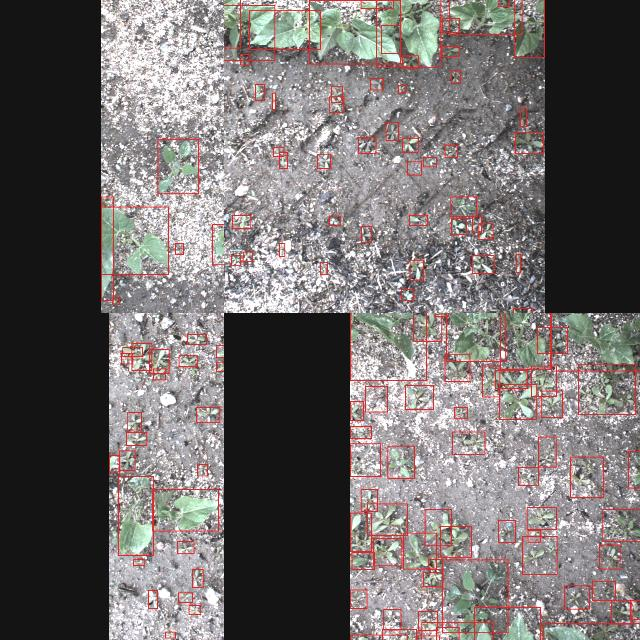crop: (308, 0, 400, 63), (550, 313, 640, 370), (349, 313, 425, 379), (442, 560, 508, 632), (100, 206, 168, 274), (375, 0, 440, 66), (445, 313, 505, 361), (500, 313, 550, 369), (152, 488, 218, 530), (248, 10, 320, 48), (224, 4, 273, 59), (118, 476, 152, 554), (448, 0, 521, 33), (474, 606, 540, 640), (514, 0, 544, 56), (421, 621, 492, 640), (100, 196, 112, 300), (224, 0, 239, 47), (108, 455, 118, 473)
weed: (577, 363, 635, 413), (156, 138, 198, 194), (570, 457, 604, 498), (498, 384, 536, 418), (522, 536, 556, 574), (366, 503, 406, 535), (402, 532, 436, 568), (602, 509, 640, 541), (349, 442, 379, 476), (424, 509, 450, 545), (440, 526, 470, 556), (386, 445, 414, 477), (372, 537, 402, 565), (413, 313, 441, 341), (530, 365, 556, 395), (537, 327, 567, 353), (350, 512, 370, 550), (444, 353, 470, 381), (404, 385, 434, 409), (452, 431, 484, 453), (526, 507, 556, 529), (495, 370, 527, 388), (540, 390, 562, 416), (515, 132, 543, 152), (380, 25, 400, 53), (131, 342, 151, 370), (538, 436, 556, 466), (481, 366, 499, 396), (564, 586, 588, 608), (364, 386, 386, 410), (211, 224, 224, 264), (450, 196, 476, 216), (627, 450, 640, 487), (148, 349, 168, 373), (611, 600, 631, 624), (599, 544, 619, 568), (592, 580, 614, 600), (472, 255, 494, 273), (418, 610, 437, 630), (359, 489, 376, 511), (382, 629, 416, 640), (351, 552, 374, 568), (518, 467, 538, 485), (382, 609, 400, 629), (196, 406, 218, 422), (498, 520, 514, 542), (435, 626, 458, 640), (118, 450, 134, 470), (350, 588, 366, 608), (409, 259, 423, 279), (422, 572, 442, 586), (450, 218, 466, 234), (357, 138, 375, 152), (441, 18, 459, 32), (126, 411, 140, 429), (126, 432, 146, 444), (350, 400, 362, 420), (350, 426, 370, 438), (232, 215, 250, 228), (479, 223, 493, 239), (402, 137, 418, 151), (329, 96, 343, 112), (360, 0, 392, 7), (386, 122, 398, 140), (178, 354, 196, 366), (316, 152, 329, 168), (122, 346, 142, 356), (402, 55, 418, 67), (177, 541, 193, 553), (187, 333, 206, 343), (630, 599, 640, 618), (441, 46, 459, 56), (409, 214, 427, 224), (192, 568, 202, 586), (331, 86, 342, 102), (444, 144, 458, 156), (407, 162, 421, 174), (254, 83, 264, 99), (361, 225, 371, 241), (472, 215, 482, 231), (401, 288, 413, 300), (370, 77, 382, 89), (148, 590, 156, 608), (454, 406, 466, 418), (528, 529, 540, 541), (422, 156, 436, 166), (177, 592, 191, 602), (428, 559, 442, 569), (120, 352, 132, 363), (153, 368, 165, 379), (278, 152, 286, 168), (450, 70, 460, 82), (188, 604, 200, 614), (197, 463, 207, 475), (512, 307, 531, 313), (328, 215, 339, 225), (520, 107, 526, 125), (215, 345, 224, 357), (242, 251, 252, 261), (239, 54, 249, 64), (230, 255, 240, 265), (273, 146, 283, 156), (175, 242, 183, 254), (319, 262, 327, 274), (215, 361, 224, 371), (278, 242, 284, 255), (516, 254, 520, 272), (497, 0, 509, 5), (165, 631, 175, 637), (133, 558, 143, 564), (398, 85, 404, 93), (112, 297, 118, 303), (272, 92, 274, 110)
